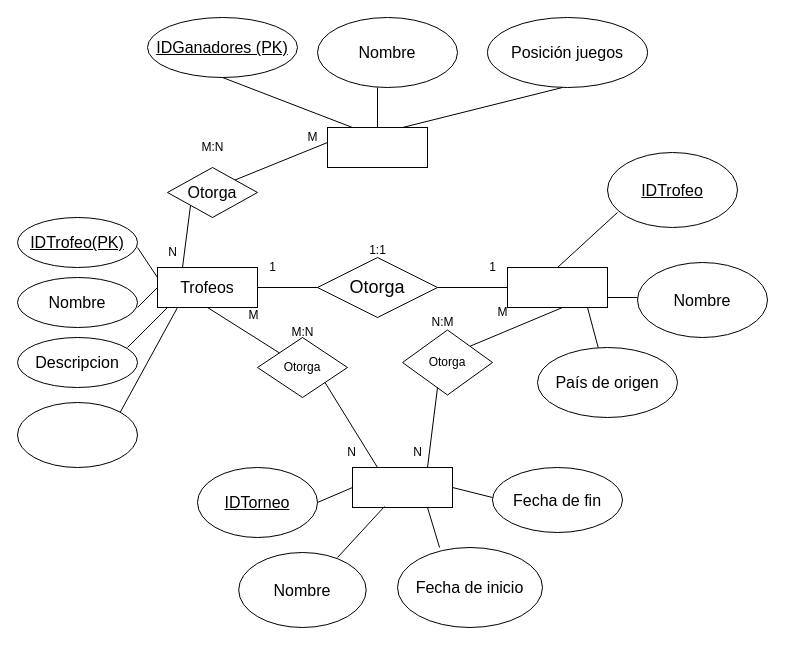
Some shapes in this 785 by 645 pixel diagram are drawn without their labels. Here are the shapes that lost their labels. From the top down, the centre of each, then its label:
At [377,147]: "Ganador".
At [557,287]: "Equipos".
At [77,435]: "Año de creación".
At [402,487]: "Torneo".
